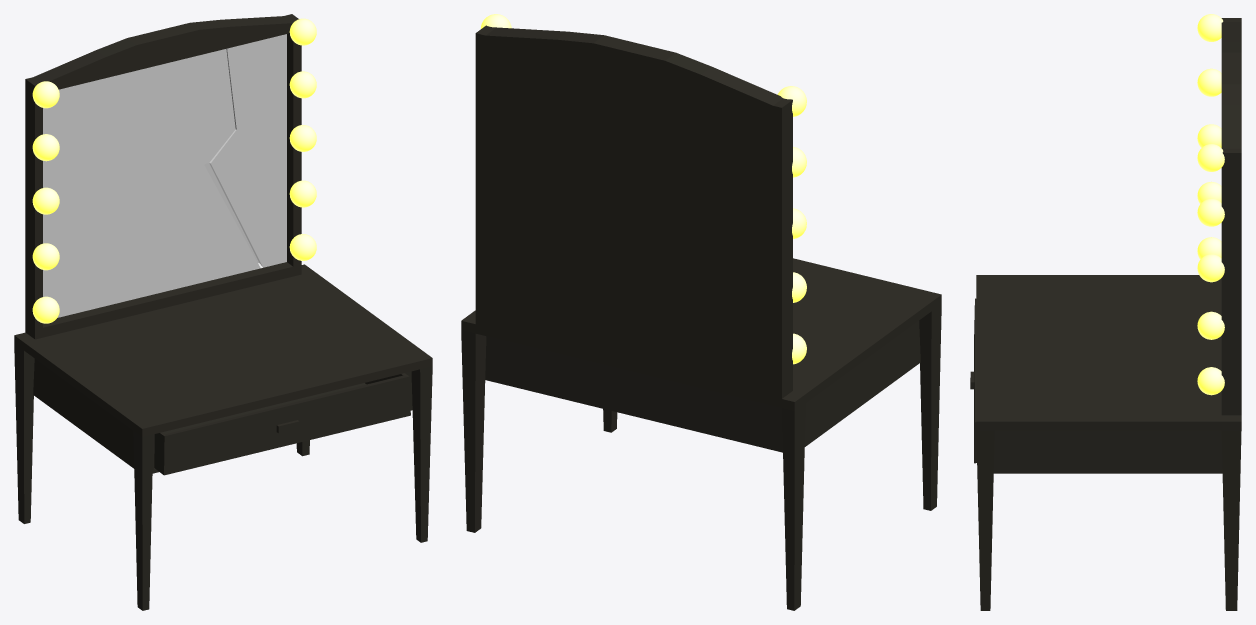
Rendered from PEILIPÖYTÄ HYVÄ.fbx.
3 views of the same model, side by side, from view 1: azimuth 30°, elevation 25°; view 2: azimuth 150°, elevation 25°; view 3: azimuth 270°, elevation 25° (orthographic). The views are drawn at different scales.
Visible parts, largest first — view 1: pöytä, peili, LAATIKKO, peili valot; view 2: pöytä, peili valot; view 3: pöytä, peili valot, LAATIKKO.
Boxes of the visible parts, x1,y1,x2,y2 form: pöytä: (14,14,432,610); peili: (43,34,286,317); LAATIKKO: (154,373,410,475); peili valot: (32,18,316,323); pöytä: (461,25,941,610); peili valot: (480,14,806,364); pöytä: (976,18,1241,610); peili valot: (1197,14,1224,395); LAATIKKO: (970,298,976,463).
Size of the model in its own units: 2 by 2.98 by 1.56.
